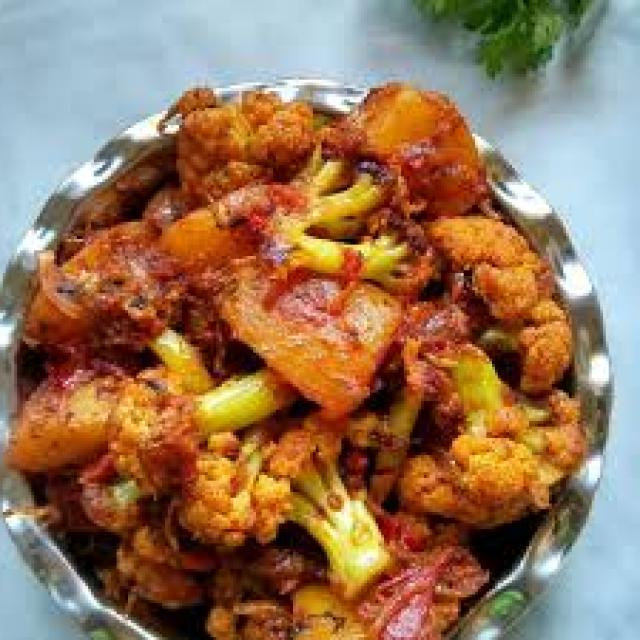Aloo Gobi: (68, 83, 550, 628)
